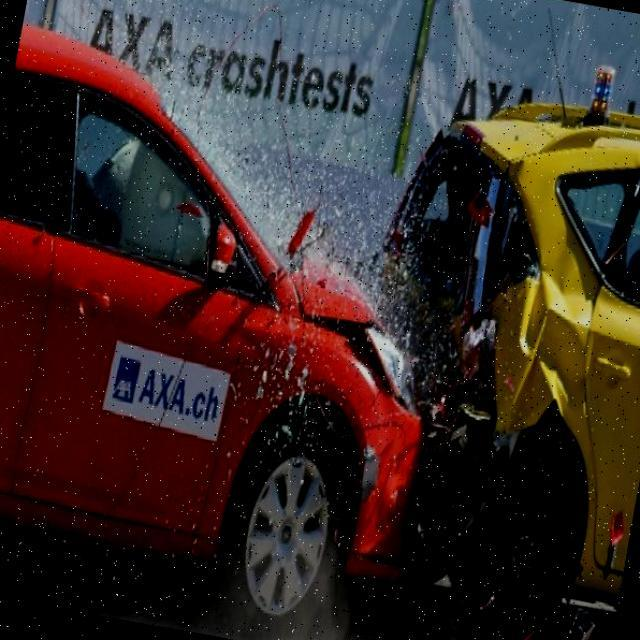accident: (83, 5, 634, 623)
